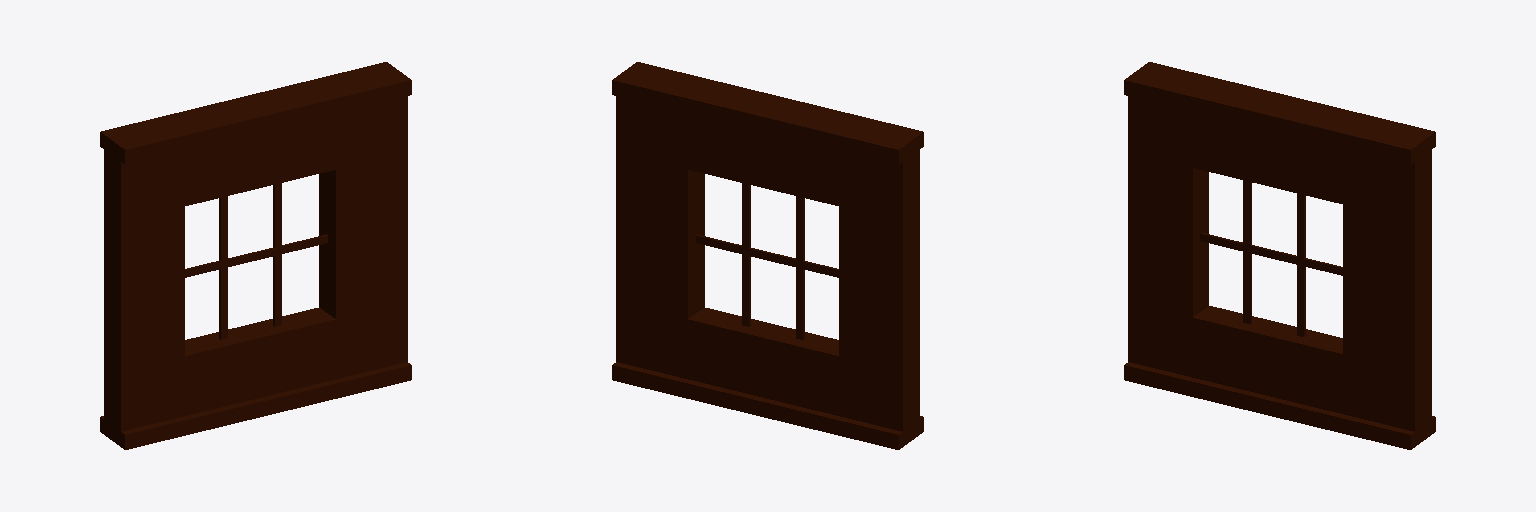
The model's file is 4x4_wall_window_noglass.obj.
3 renders of one model, left to right at view 1: azimuth 30°, elevation 25°; view 2: azimuth 150°, elevation 25°; view 3: azimuth 330°, elevation 25°, orthographic.
Parts seen in each view (by area): view 1: wall; view 2: wall; view 3: wall.
Boxes of the visible parts, box(x1,y1,x2,y2) form: wall: box(100, 62, 411, 449); wall: box(612, 62, 923, 449); wall: box(1124, 62, 1435, 449).
Bounding box in the file's own units: 4 × 4 × 0.607.